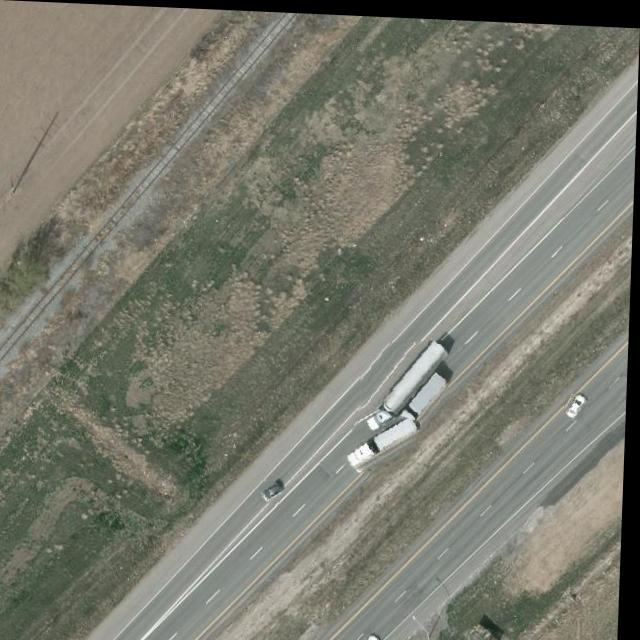vehicle: (361, 335, 455, 436), (348, 402, 421, 477), (566, 387, 593, 416), (263, 477, 287, 502), (359, 628, 387, 640)
